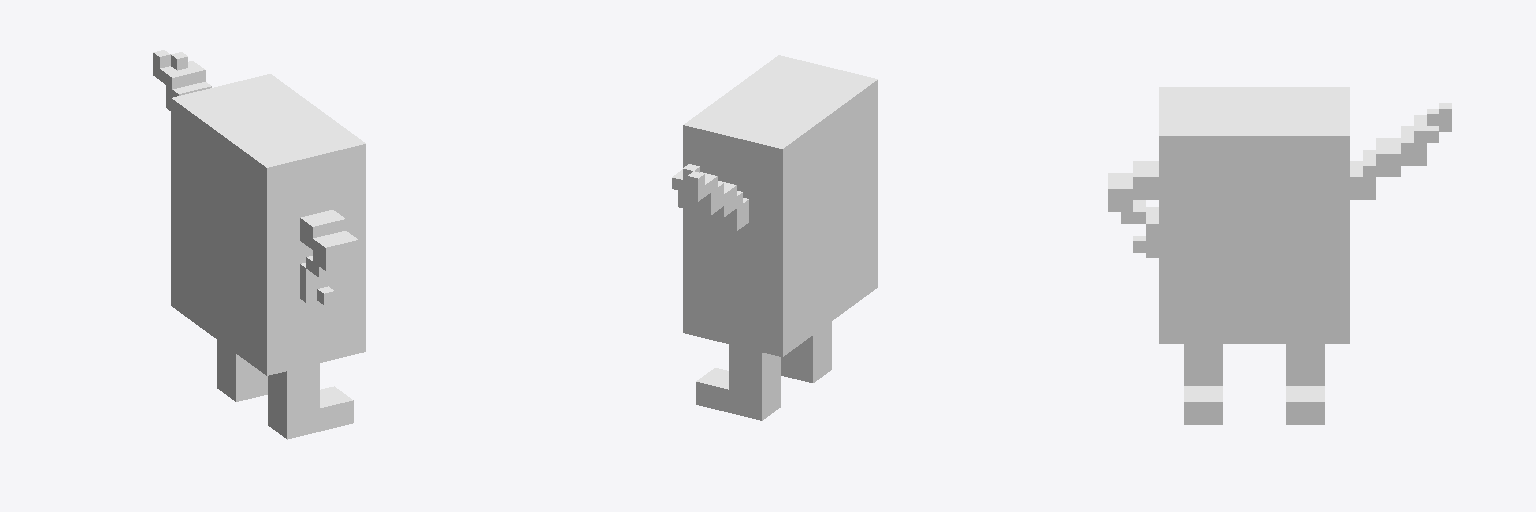
File: bmoNew.obj
The picture shows the model from 3 angles: view 1: azimuth 30°, elevation 25°; view 2: azimuth 150°, elevation 25°; view 3: azimuth 270°, elevation 25°; orthographic projection.
Visible parts, largest first — view 1: object 1; view 2: object 1; view 3: object 1.
Boxes of the visible parts, <box> form: object 1: <box>153,50,365,439</box>; object 1: <box>672,55,877,420</box>; object 1: <box>1108,87,1451,424</box>.
Size of the model in its own units: 0.9 by 2.5 by 2.7.